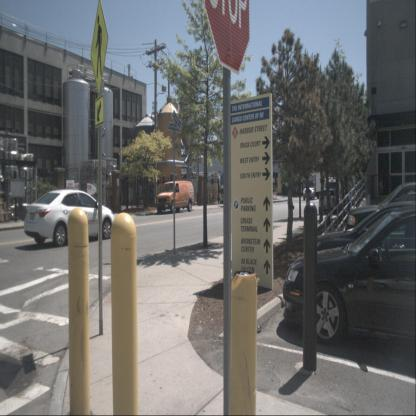vehicle-car: (282, 207, 416, 352), (311, 201, 415, 283), (24, 189, 115, 247), (345, 183, 416, 249), (156, 181, 194, 214), (324, 179, 344, 210), (319, 189, 341, 216)
vehicle-truck: (303, 176, 316, 200)
